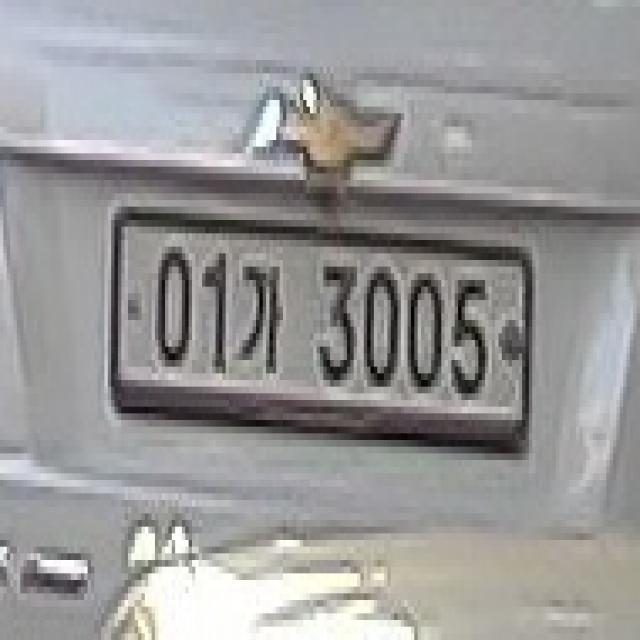0: (151, 240, 195, 378), (362, 260, 403, 388), (406, 262, 444, 394)
1: (198, 242, 230, 384)
3: (314, 257, 356, 389)
5: (446, 271, 493, 406)
ga: (236, 250, 286, 378)
license_plate: (90, 205, 536, 461)
